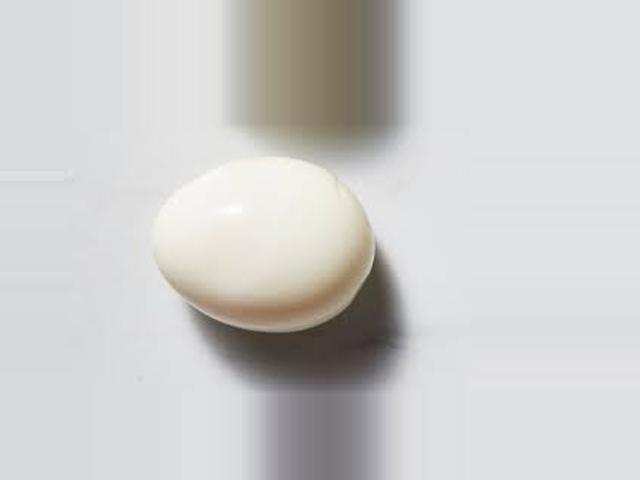egg: (154, 157, 376, 332)
